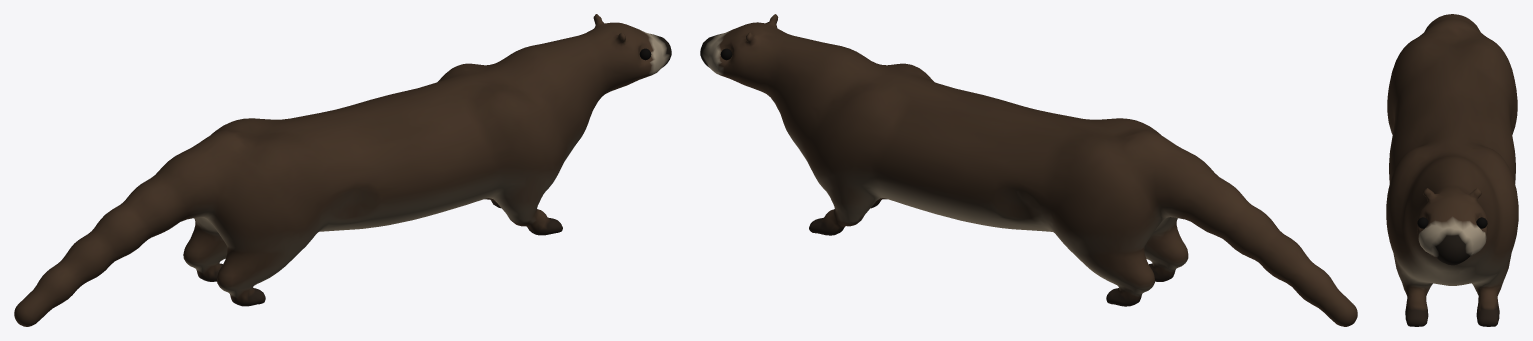
File: otter.glb
The picture shows the model from 3 angles, left to right: view 1: azimuth 30°, elevation 25°; view 2: azimuth 150°, elevation 25°; view 3: azimuth 270°, elevation 25°; orthographic projection.
Visible parts, largest first — view 1: otter; view 2: otter; view 3: otter.
Boxes of the visible parts, bbox=[...] form: otter: bbox=[14, 14, 671, 326]; otter: bbox=[700, 14, 1357, 326]; otter: bbox=[1386, 14, 1518, 326].
Size of the model in its own units: 1.24 by 0.3201 by 0.222.
